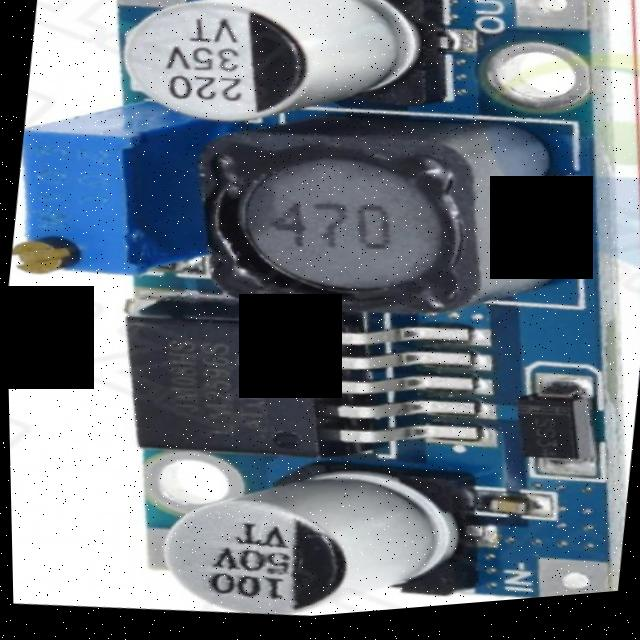IC: (99, 281, 472, 496)
capacitor 1V5: (146, 439, 461, 631), (122, 0, 438, 152), (476, 499, 535, 528)
diode -D1-: (505, 379, 594, 480)
inductor F1: (195, 108, 536, 344), (5, 91, 219, 299)
